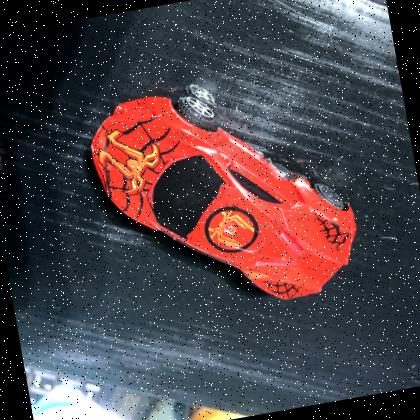Car: (89, 92, 359, 300)
